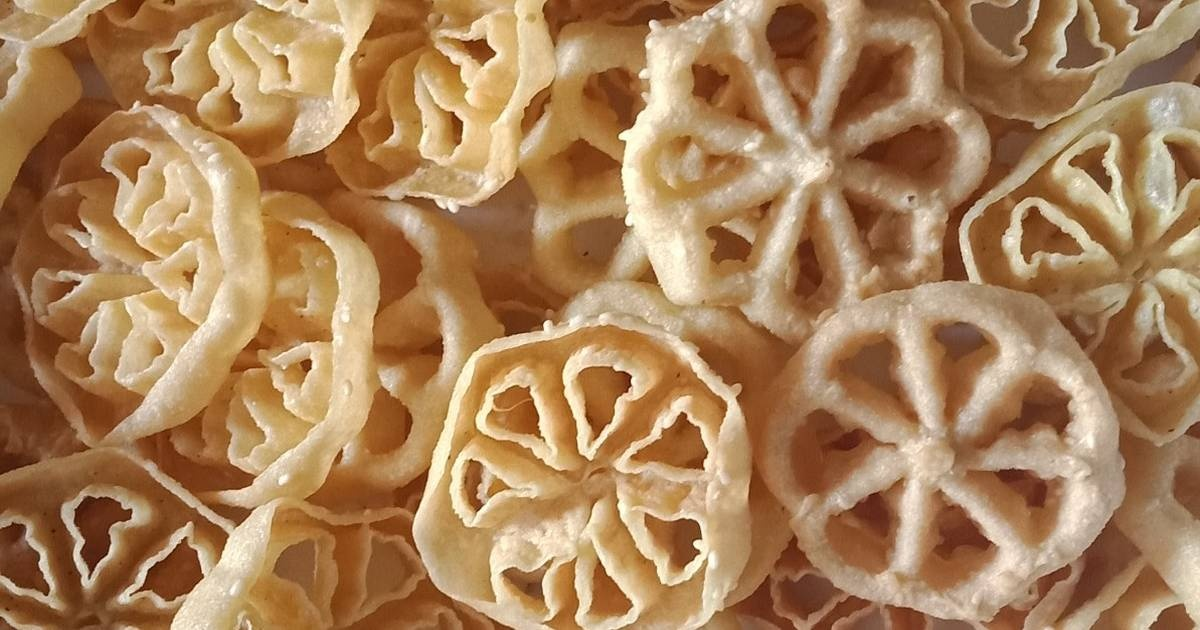kembang_goyang: (767, 290, 1109, 602), (648, 6, 975, 311), (415, 314, 734, 616), (6, 101, 267, 422)
